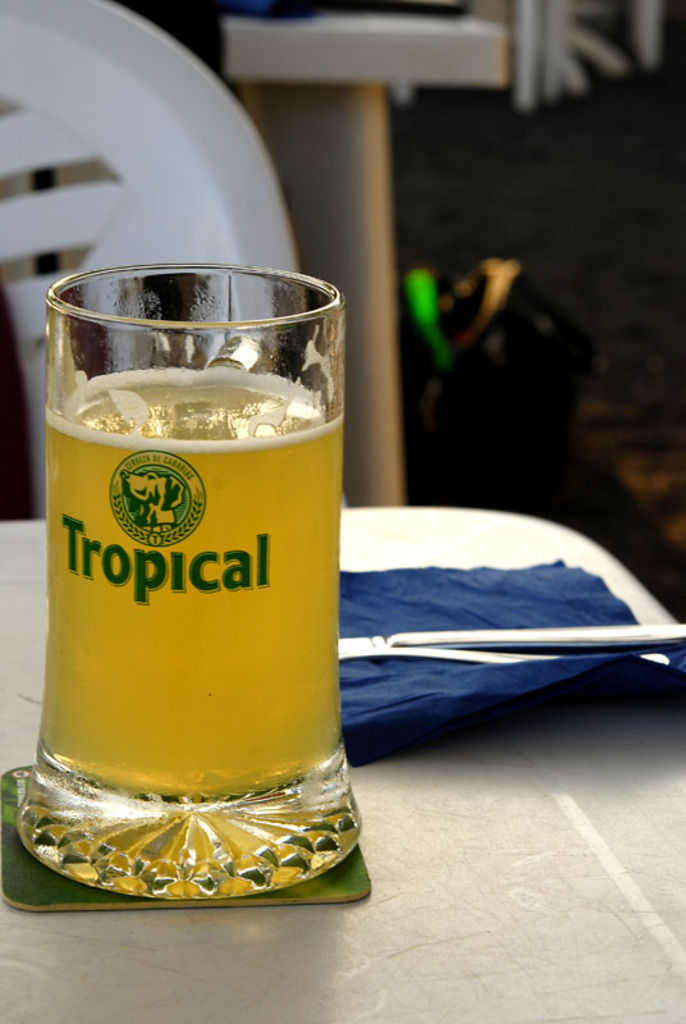Beer: (48, 369, 345, 811)
